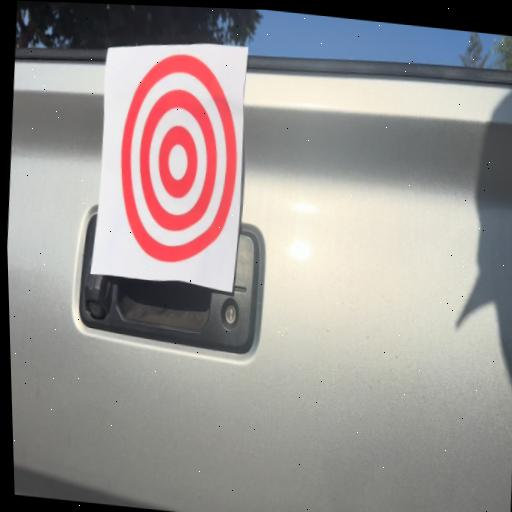bullseye: (108, 46, 246, 293)
